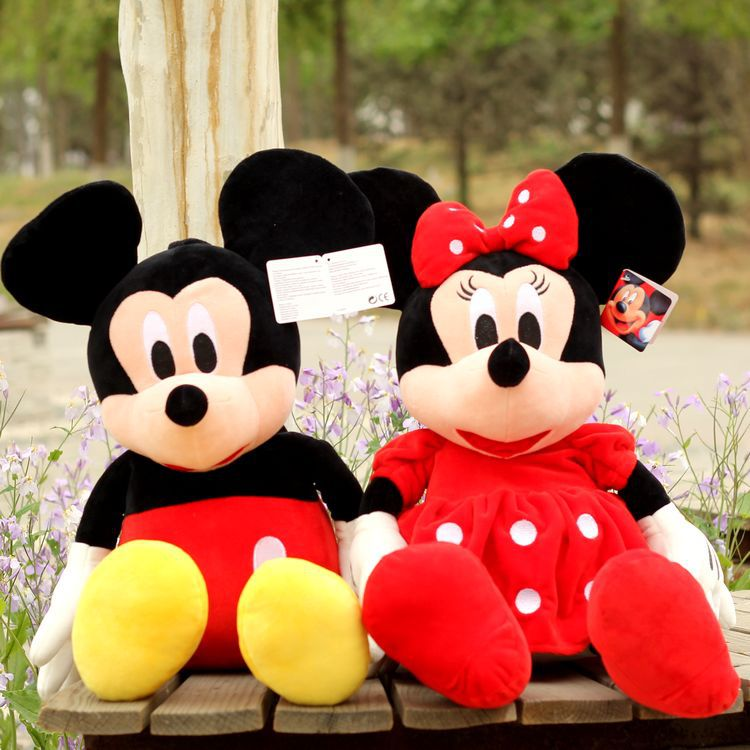Mickey: (1, 145, 378, 474)
